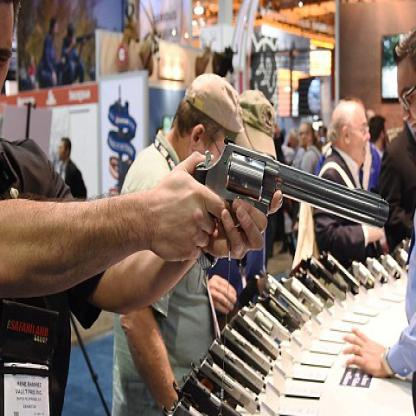gun: (182, 120, 398, 314)
